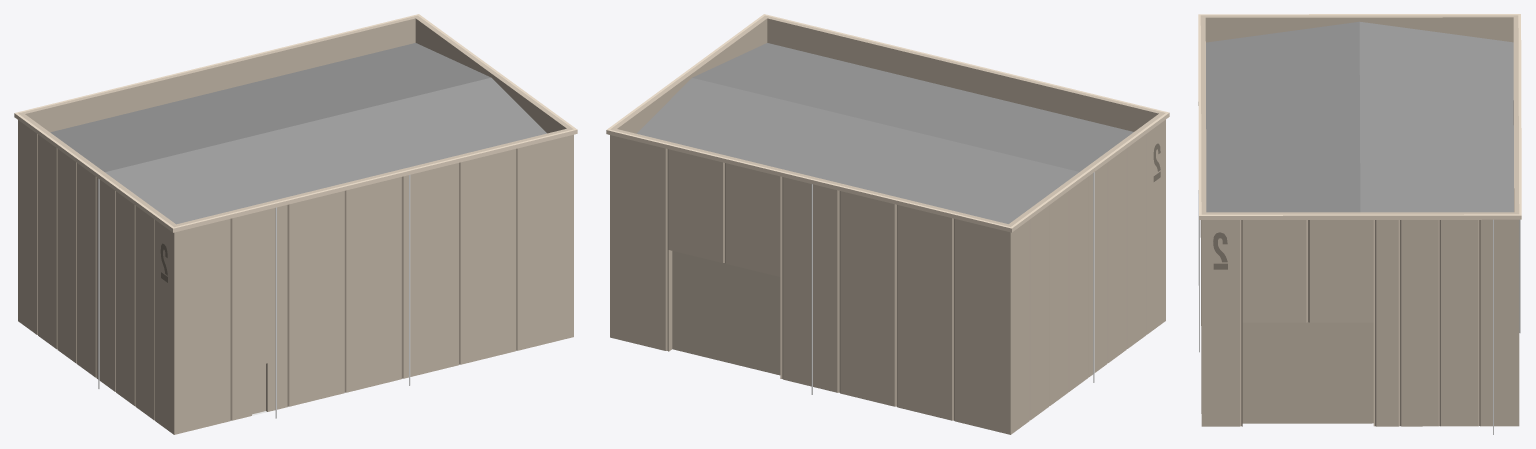
The model's file is s_buildng_stage_b.dae.
3 views of the same model, side by side, from view 1: azimuth 30°, elevation 25°; view 2: azimuth 150°, elevation 25°; view 3: azimuth 270°, elevation 25° (orthographic). The views are drawn at different scales.
Parts seen in each view (by area): view 1: s_buildng_stage_b001; view 2: s_buildng_stage_b001; view 3: s_buildng_stage_b001.
Boxes of the visible parts, x1,y1,x2,y2 form: s_buildng_stage_b001: (14, 14, 577, 434); s_buildng_stage_b001: (606, 14, 1169, 434); s_buildng_stage_b001: (1198, 14, 1521, 434).
Size of the model in its own units: 34.11 by 23.11 by 17.31.
